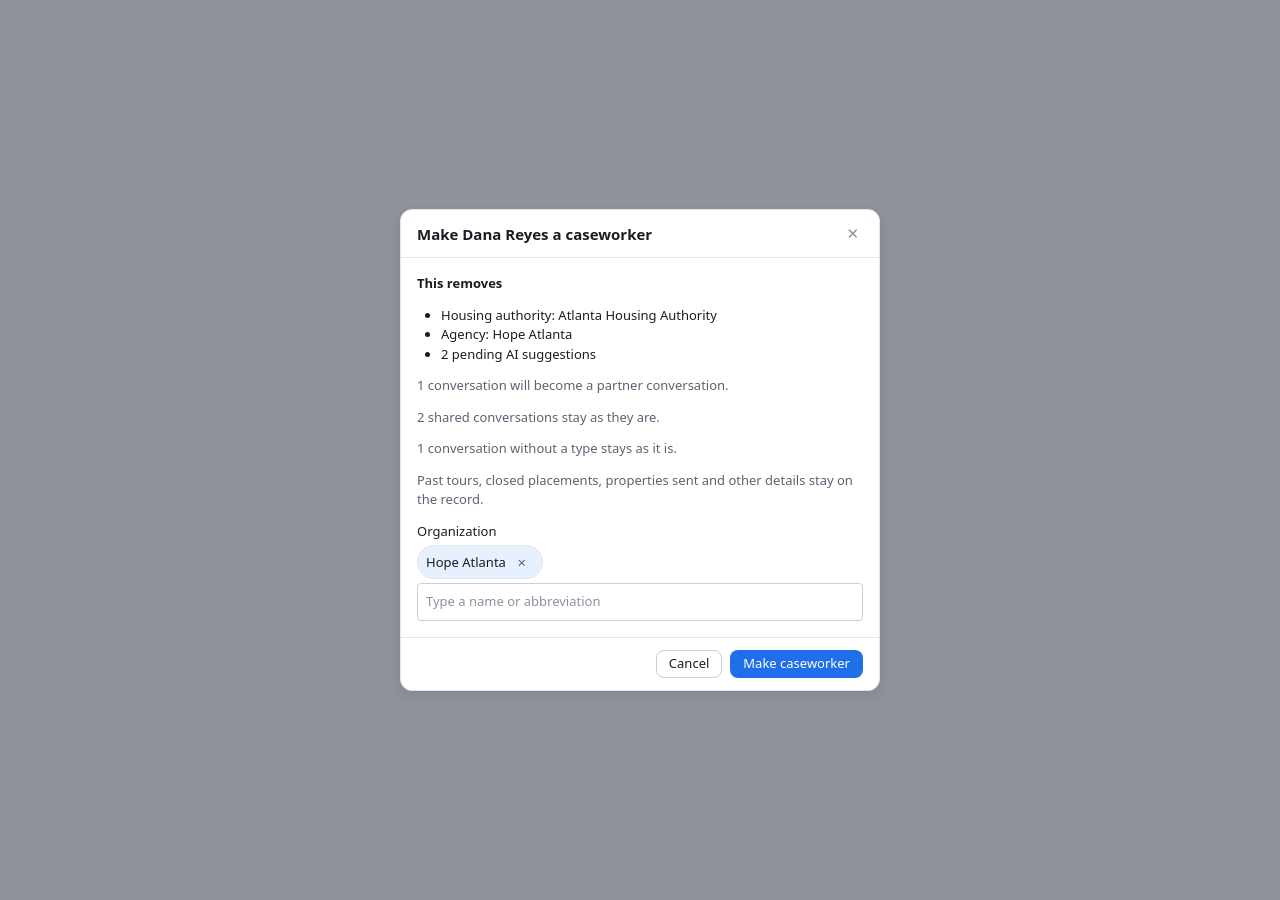
Test: CaseworkerDialog › a 422 org_not_on_list on organization shows under the picker, never the code
Expected: the text "Past tours, closed placements, properties sent and other details stay on the record." is shown, [417,471,853,508]
Expected: the button "Make caseworker" is enabled, [730,650,863,678]
Type "step" into the dropdown labelled "Organization".
click(640, 602); type("step")  # box [417,583,863,621]
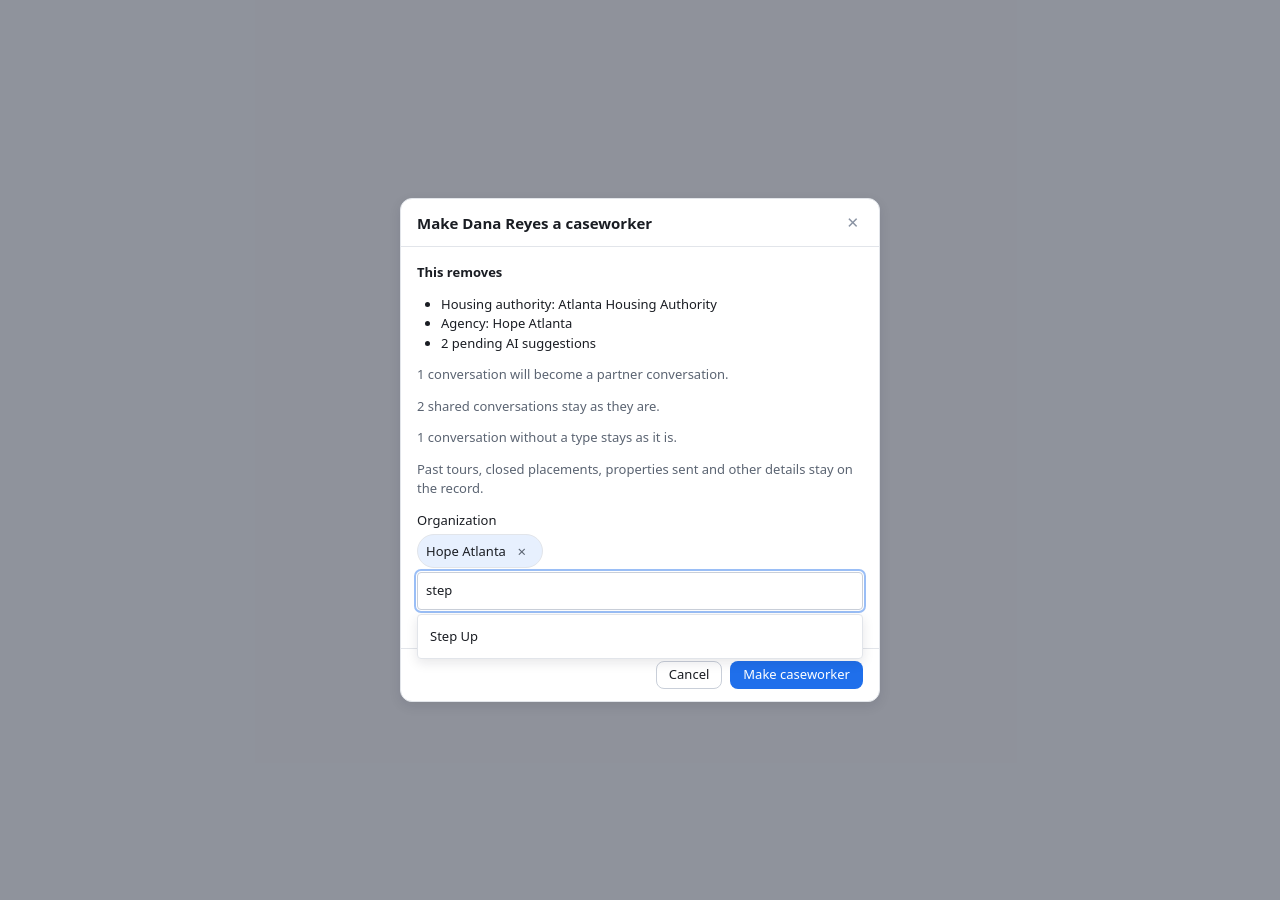
Click the option "Step Up".
click(454, 636)  # box [430,627,478,645]
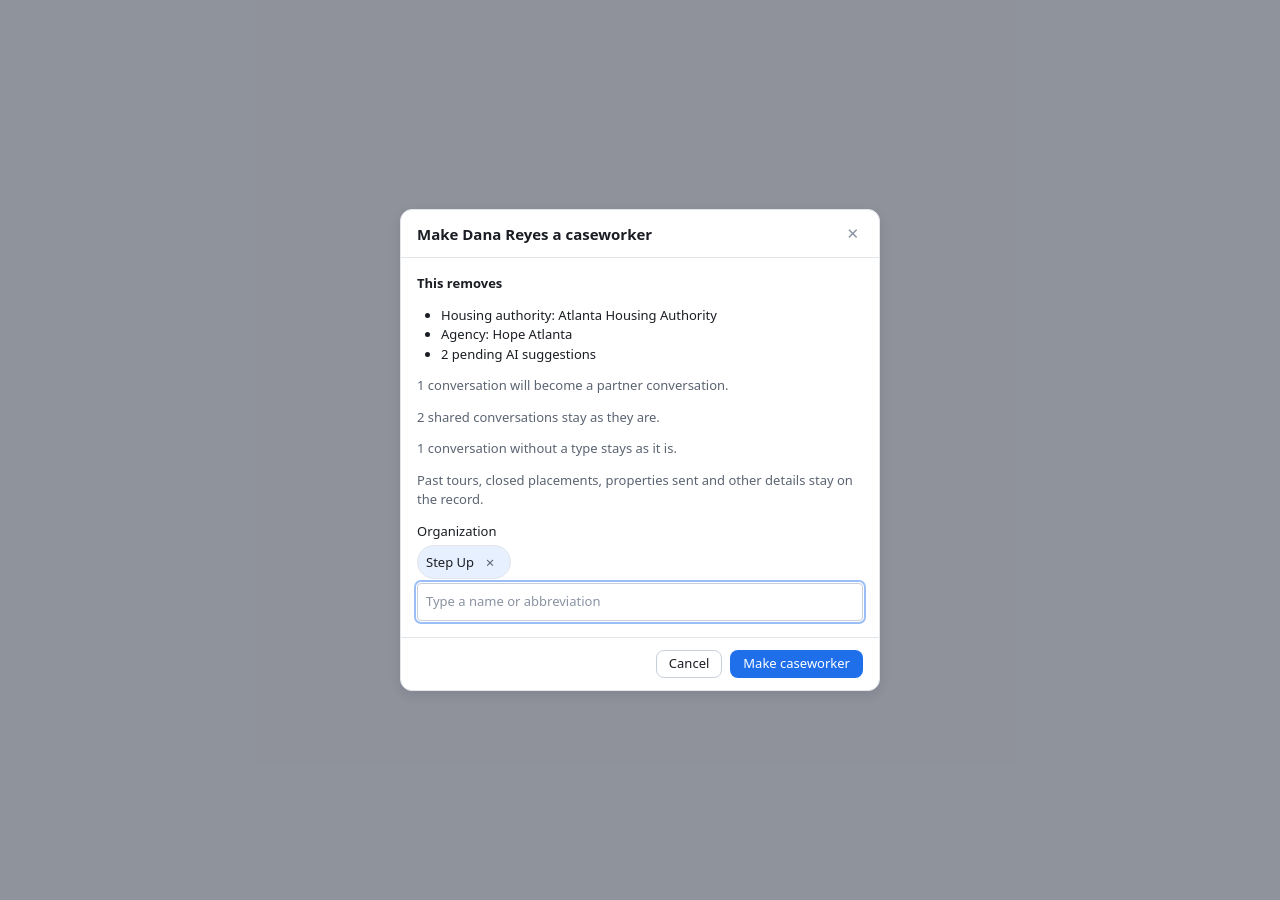
Click the button "Make caseworker".
click(797, 664)  # box [730,650,863,678]
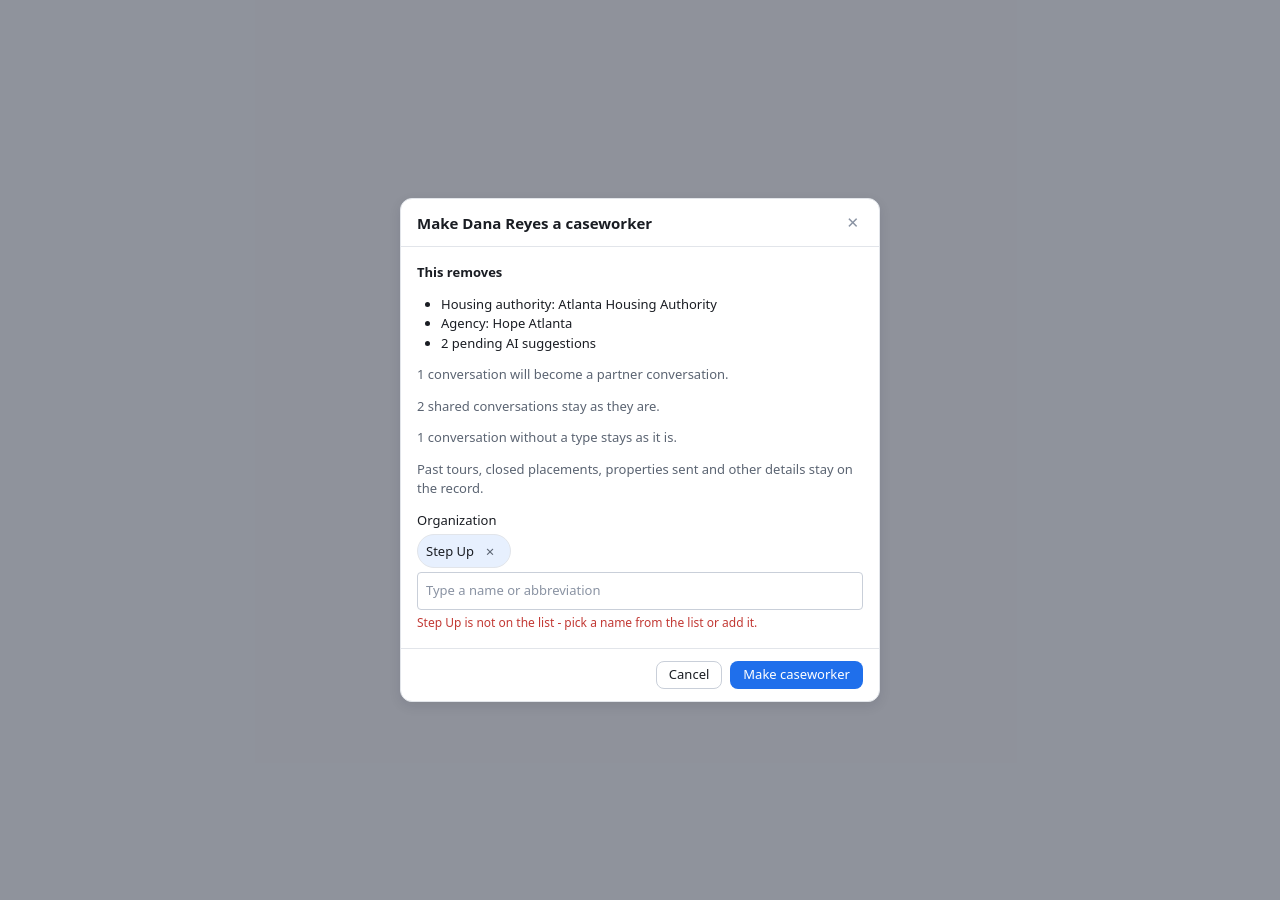
Result: the message shows "Step Up is not on the list" at [417,614,757,631]
